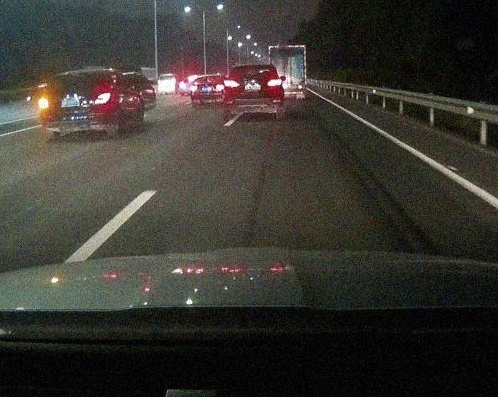L_light: (40, 98, 57, 109), (224, 80, 240, 87)
R_light: (90, 92, 111, 104), (267, 79, 282, 86)
T_light: (72, 73, 85, 78), (247, 65, 258, 69)
night-left: (40, 70, 112, 140)
night-no: (224, 64, 283, 118)
